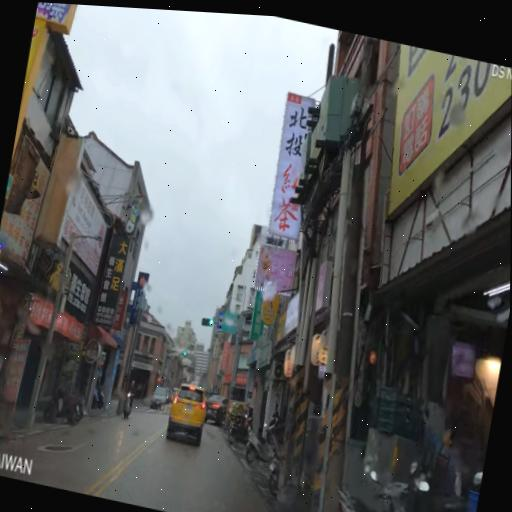Car: (164, 378, 210, 444), (200, 388, 234, 427), (148, 380, 170, 413)
